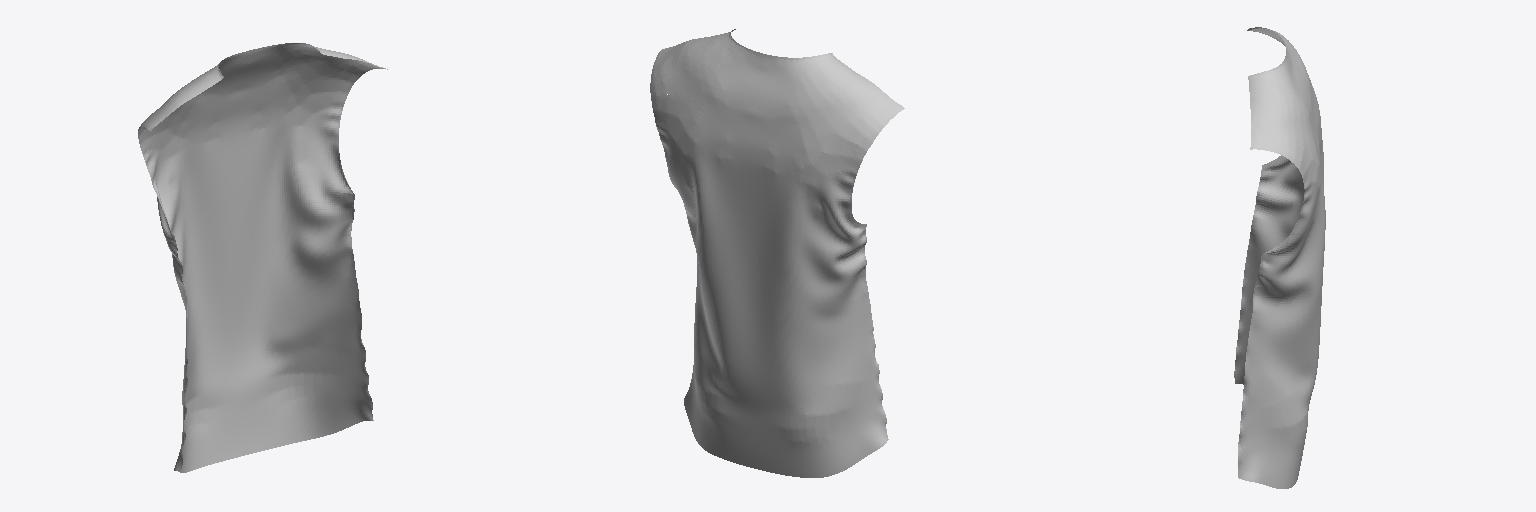
The model's file is AFO_Shirt_Standard_Back_Center-Box-Pleat.obj.
3 views of the same model, side by side, from view 1: azimuth 30°, elevation 25°; view 2: azimuth 150°, elevation 25°; view 3: azimuth 270°, elevation 25° (orthographic).
Size of the model in its own units: 430 by 700 by 140.